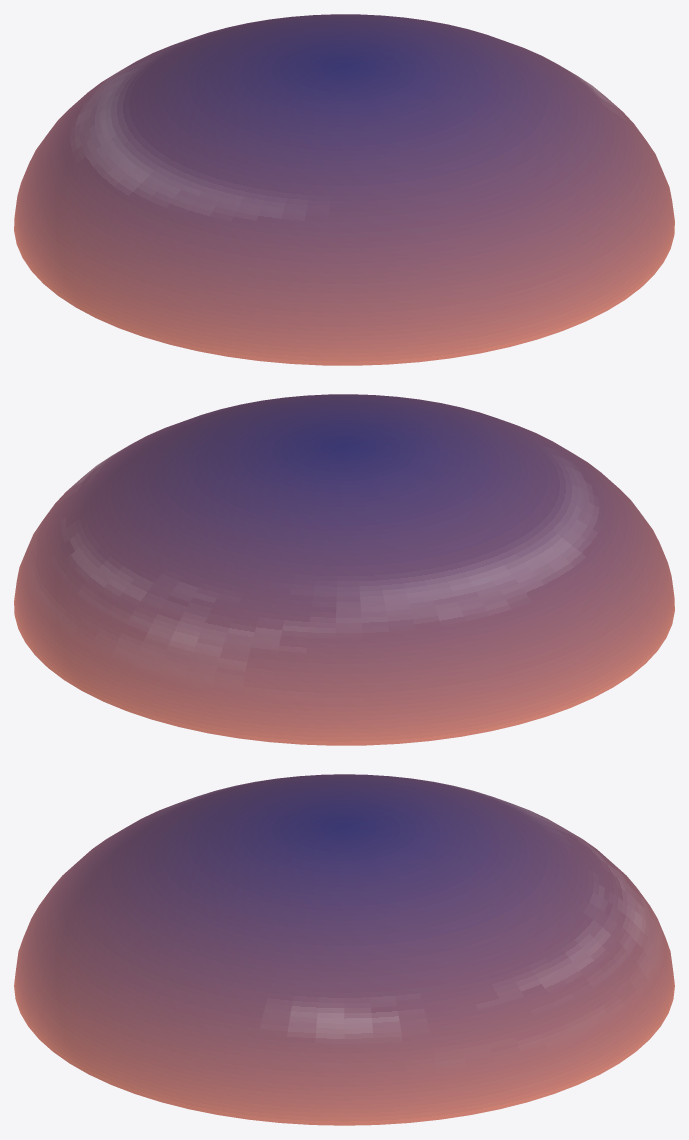
File: env-sky-s16-echodawn-dao.glb
The picture shows the model from 3 angles, top to bottom: view 1: azimuth 30°, elevation 25°; view 2: azimuth 150°, elevation 25°; view 3: azimuth 270°, elevation 25°; orthographic projection.
Parts seen in each view (by area): view 1: Sky; view 2: Sky; view 3: Sky.
Boxes of the visible parts, <box> form: Sky: <box>14,14,674,365</box>; Sky: <box>14,394,674,745</box>; Sky: <box>14,774,674,1125</box>.
Bounding box in the file's own units: 1200 × 320 × 1200.
Materials: 2 (1 with a texture image).
